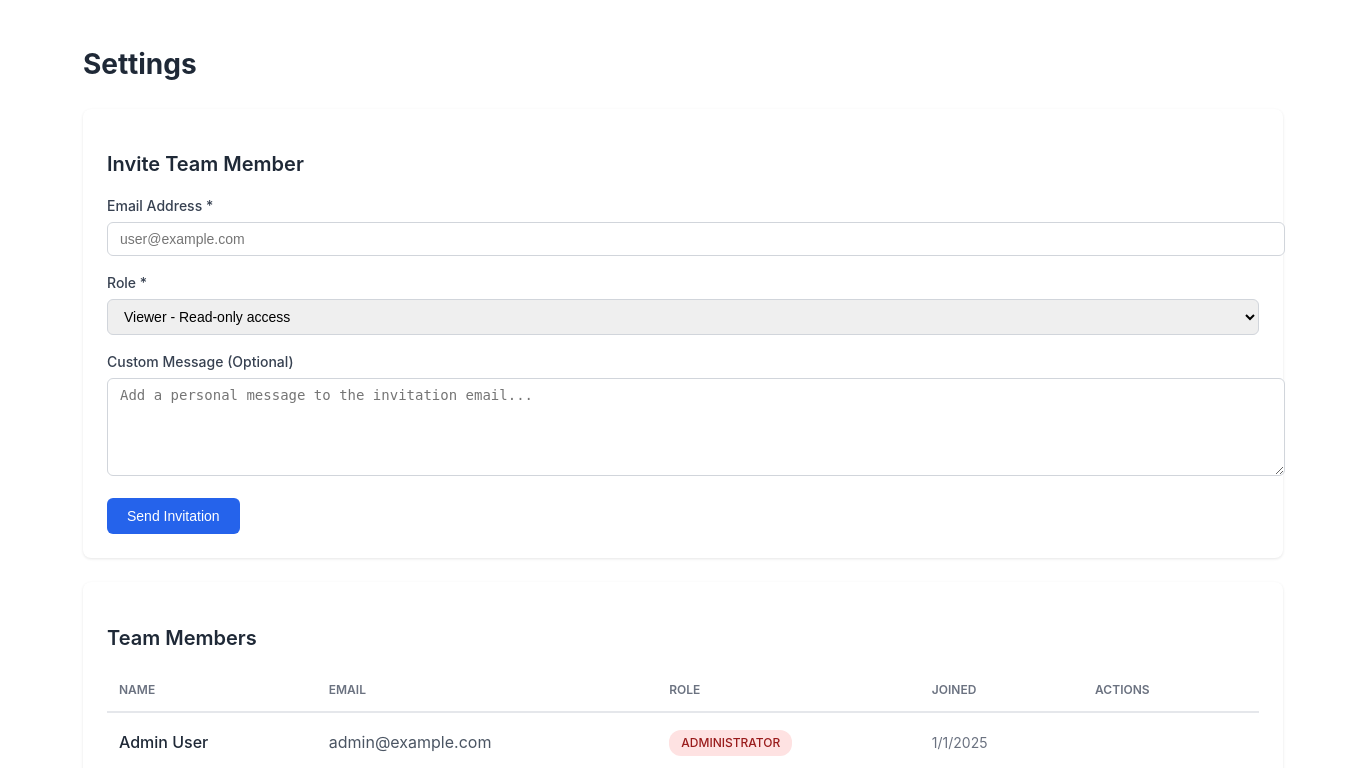
Scenario: SettingsPage Integration Tests › Invite User Workflow › shows appropriate message when email not sent
The width and height of the screenshot is (1366, 768).
Expected: the text "Admin User" is shown, [119,732,208,752]
Type "newuser@example.com" into the field labelled "Email Address *" at point(696, 239), box [107,222,1285,256]
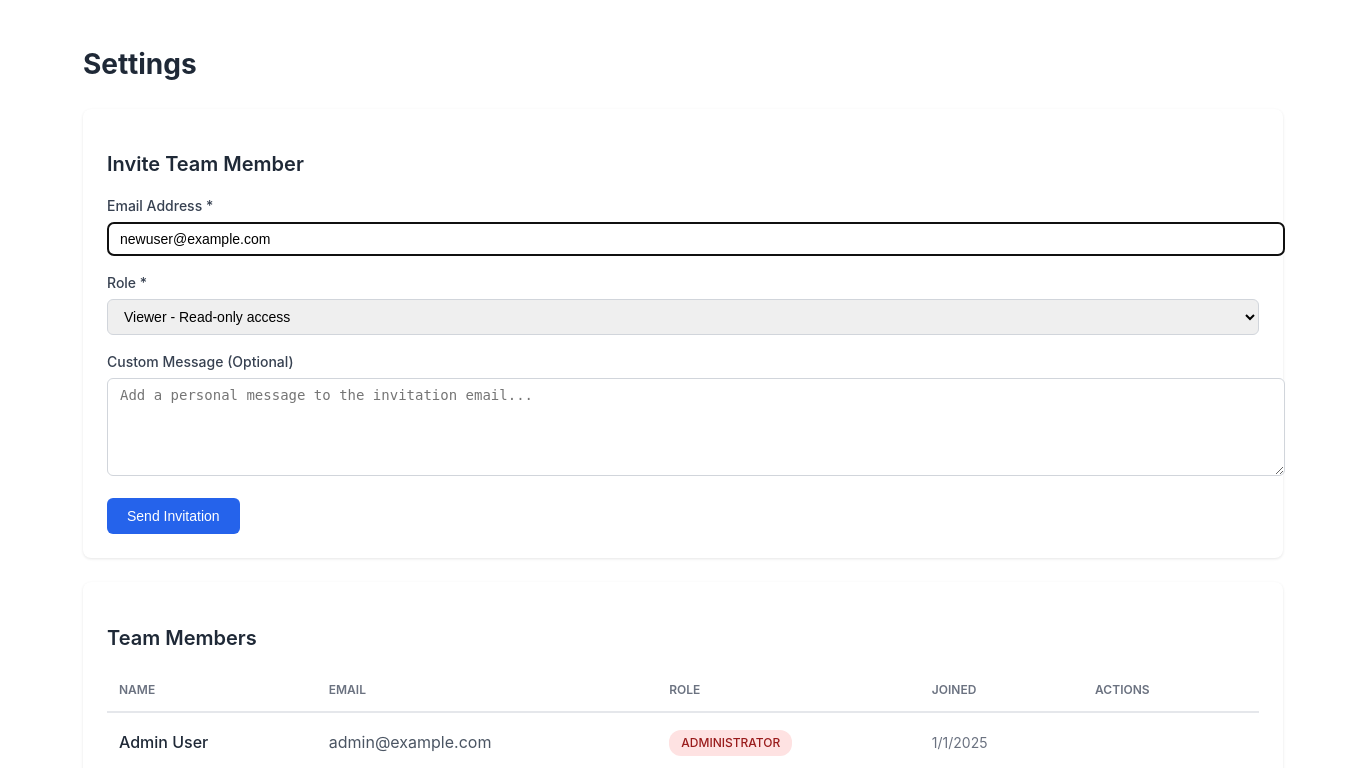
Click the button "Send Invitation" at point(173, 516), box [107,498,240,534]
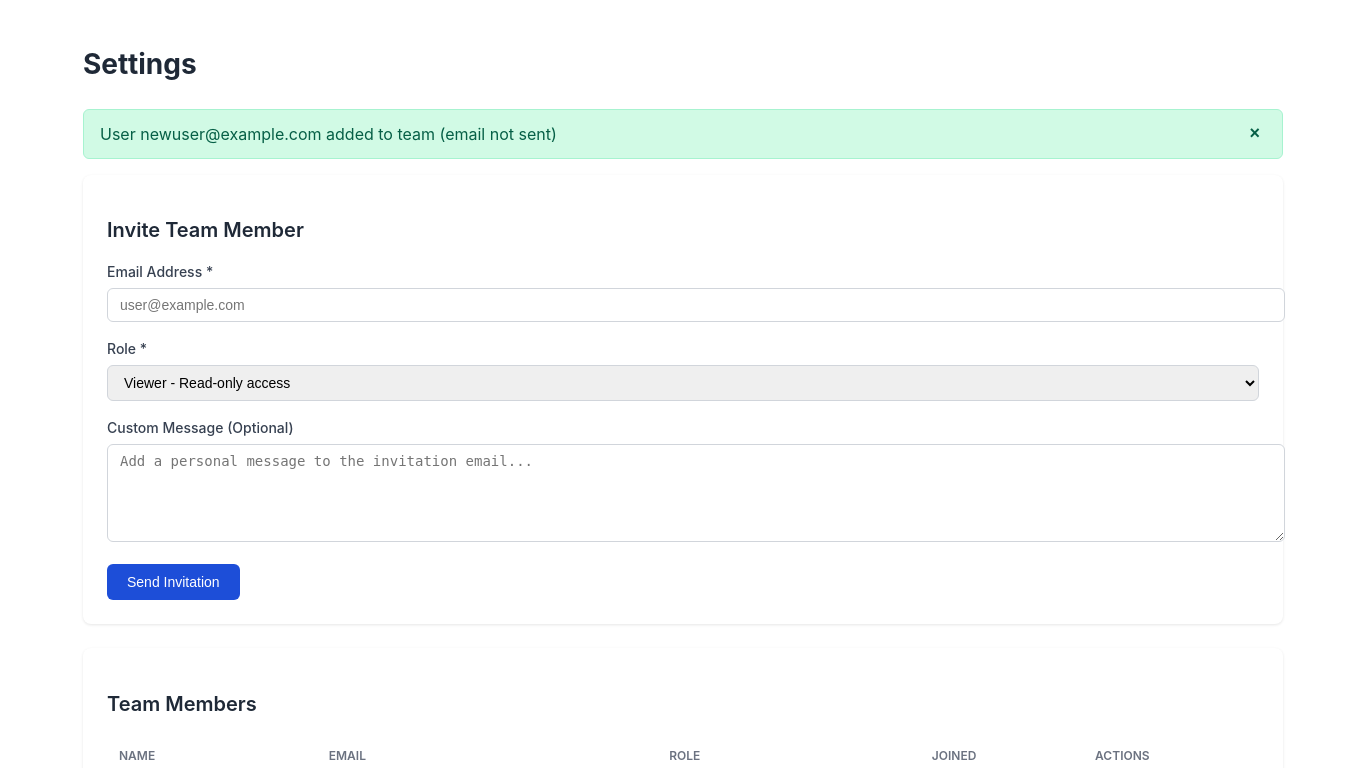
Now the text "User newuser@example.com added to team (email not sent)" is shown, box [100,122,557,146]
